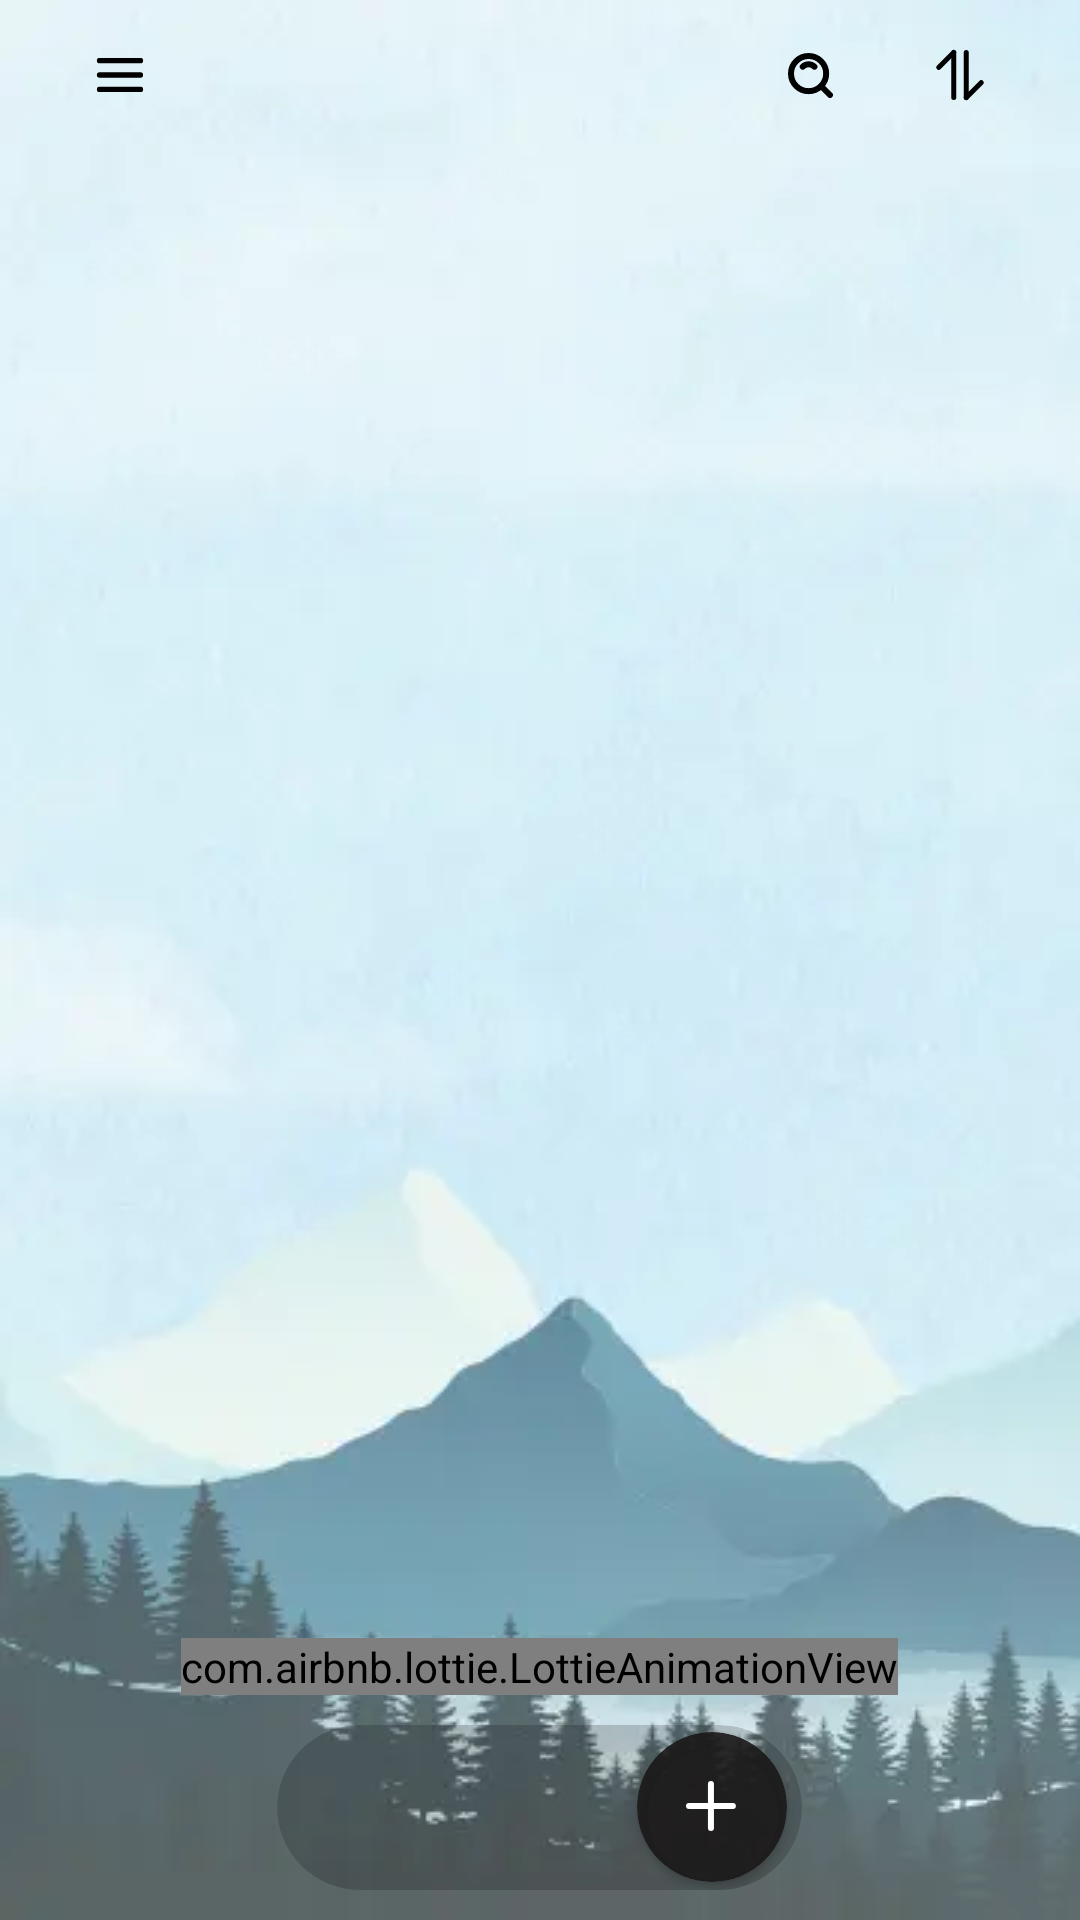

Icon bounding boxes for this 1080x1920 phone screenshot, format rect(x1, y1, x2, y2):
add: rect(686, 1781, 736, 1831)
menu: rect(97, 58, 143, 92)
search: rect(788, 53, 833, 98)
sort: rect(936, 49, 984, 101)
